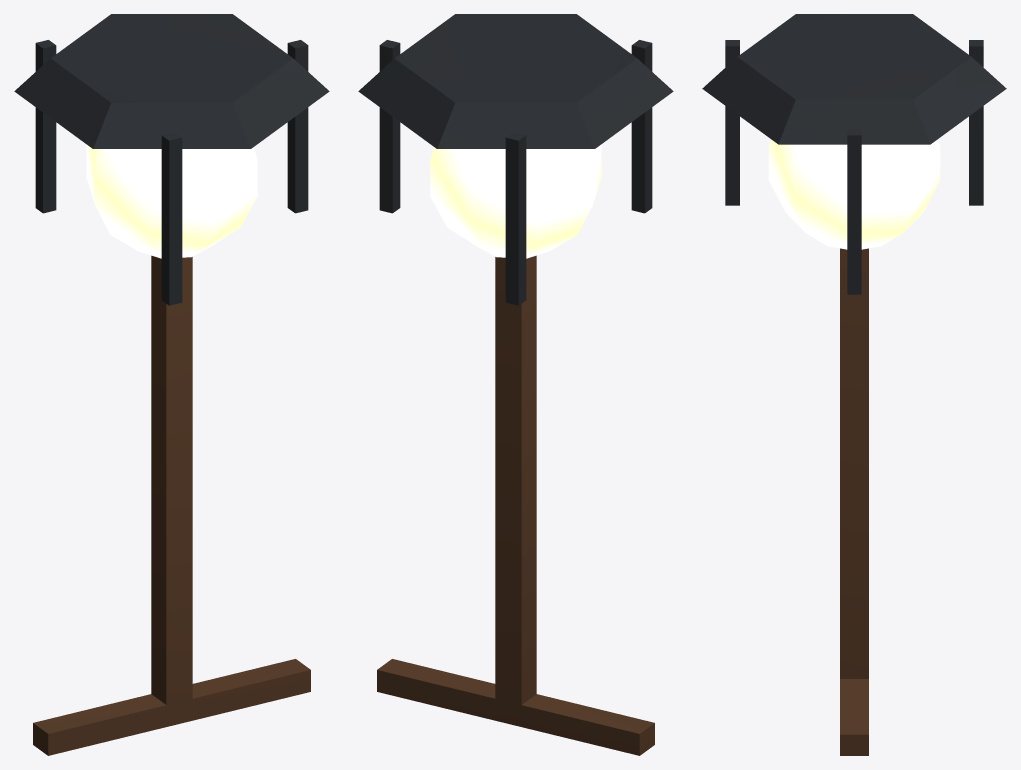
Rendered from beacon_desert.glb.
3 renders of one model, left to right at view 1: azimuth 30°, elevation 25°; view 2: azimuth 150°, elevation 25°; view 3: azimuth 270°, elevation 25°, orthographic. The views are drawn at different scales.
Parts seen in each view (by area): view 1: beacon_desert; view 2: beacon_desert; view 3: beacon_desert.
Part boxes in pixels (box(x1,y1,x2,y2)): beacon_desert: box(14, 14, 329, 755); beacon_desert: box(358, 14, 673, 755); beacon_desert: box(702, 14, 1006, 755).
Bounding box in the file's own units: 0.5025 × 1.2 × 0.52.
